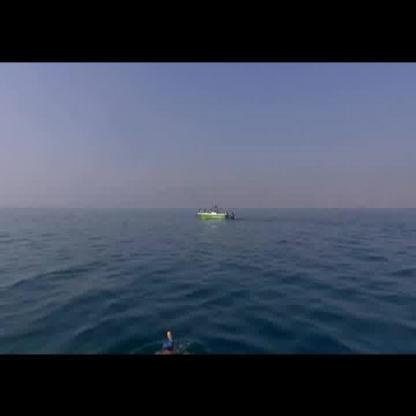Boat: (193, 197, 236, 223)
